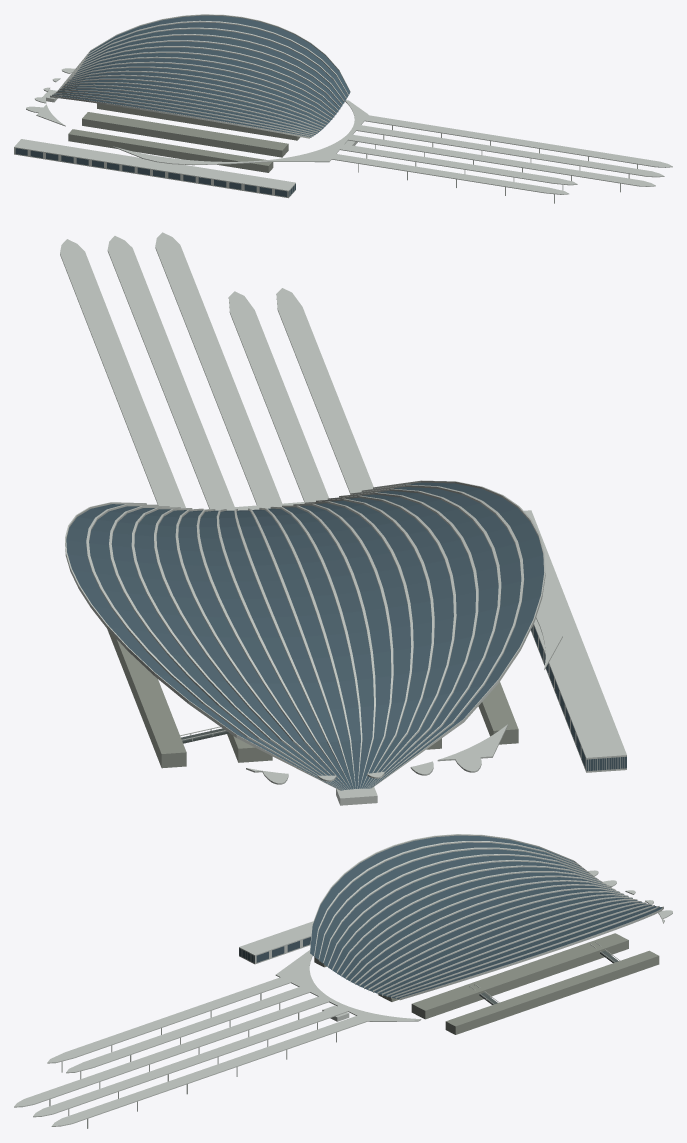
File: liege-guillemins-far.glb
3 renders of one model, top to bottom at view 1: azimuth 30°, elevation 25°; view 2: azimuth 150°, elevation 25°; view 3: azimuth 270°, elevation 25°, orthographic. The views are drawn at different scales.
Visible parts, largest first — view 1: liege-guillemins-0-white, liege-guillemins-0-glass, liege-guillemins-0-platform; view 2: liege-guillemins-0-glass, liege-guillemins-0-white, liege-guillemins-0-platform; view 3: liege-guillemins-0-white, liege-guillemins-0-glass, liege-guillemins-0-platform.
Boxes of the visible parts, bbox=[...] form: liege-guillemins-0-white: bbox=[14, 14, 672, 203]; liege-guillemins-0-glass: bbox=[15, 15, 350, 196]; liege-guillemins-0-platform: bbox=[68, 103, 300, 172]; liege-guillemins-0-glass: bbox=[66, 482, 626, 790]; liege-guillemins-0-white: bbox=[60, 232, 626, 805]; liege-guillemins-0-platform: bbox=[107, 629, 518, 768]; liege-guillemins-0-white: bbox=[14, 834, 672, 1128]; liege-guillemins-0-glass: bbox=[239, 835, 662, 999]; liege-guillemins-0-platform: bbox=[314, 933, 659, 1034].
Bounding box in the file's own units: 342 × 40 × 338.
